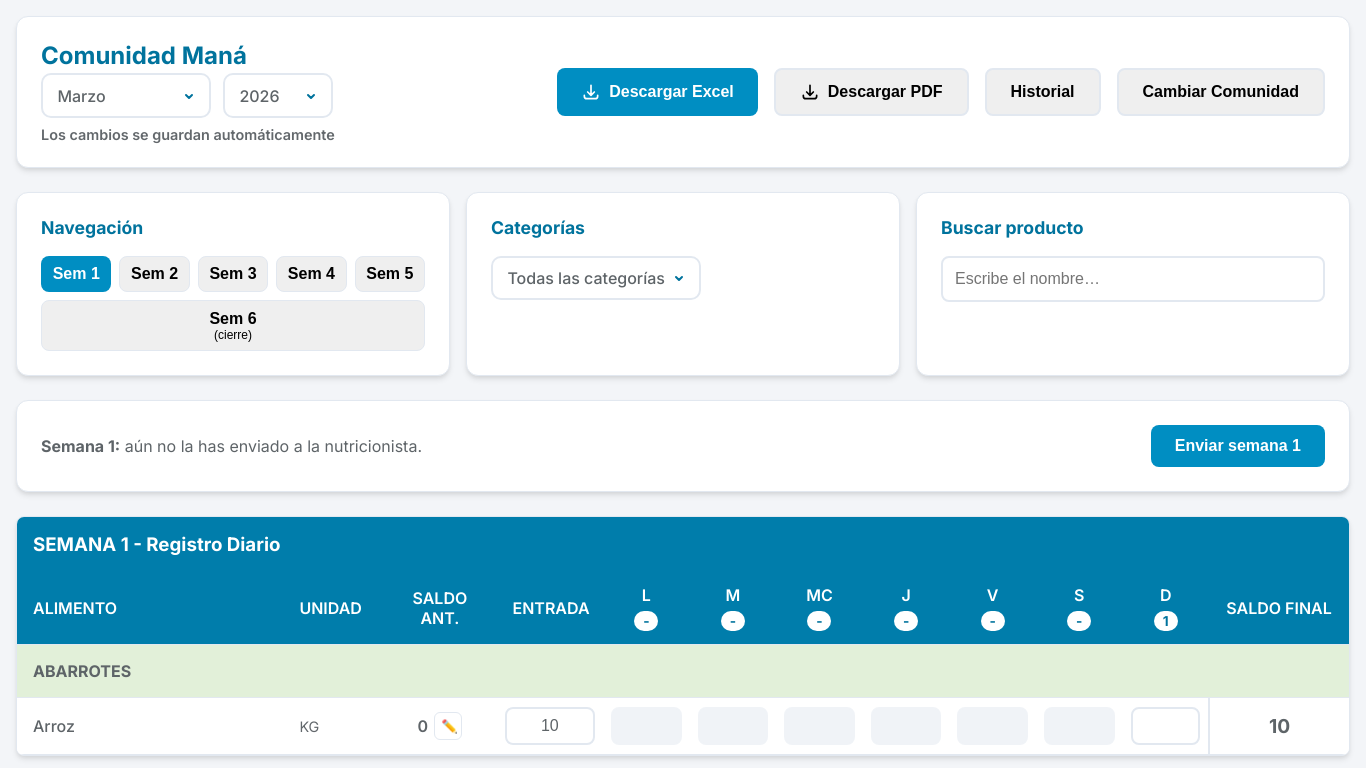
Test case: kardex: semana 6 de cierre › cambiar de semana con los botones lleva a la semana 6 y de vuelta
This screenshot has width=1366, height=768.
Click the button "Sem 6 (cierre)": click(233, 325) [41,300,425,351]
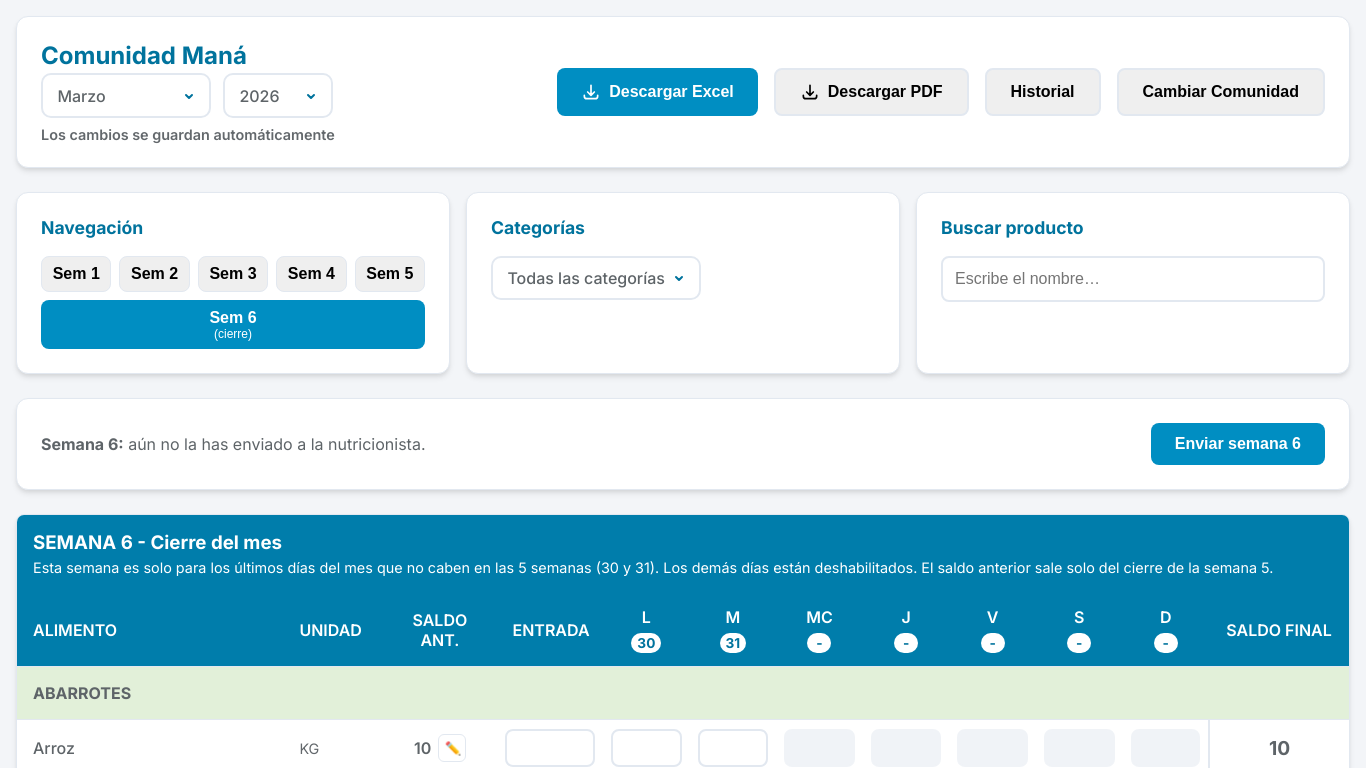
expect the heading "SEMANA 6 - Cierre del mes" is shown: met, box [33,531,282,554]
Click the button "Sem 1": click(76, 274) [41,256,111,292]
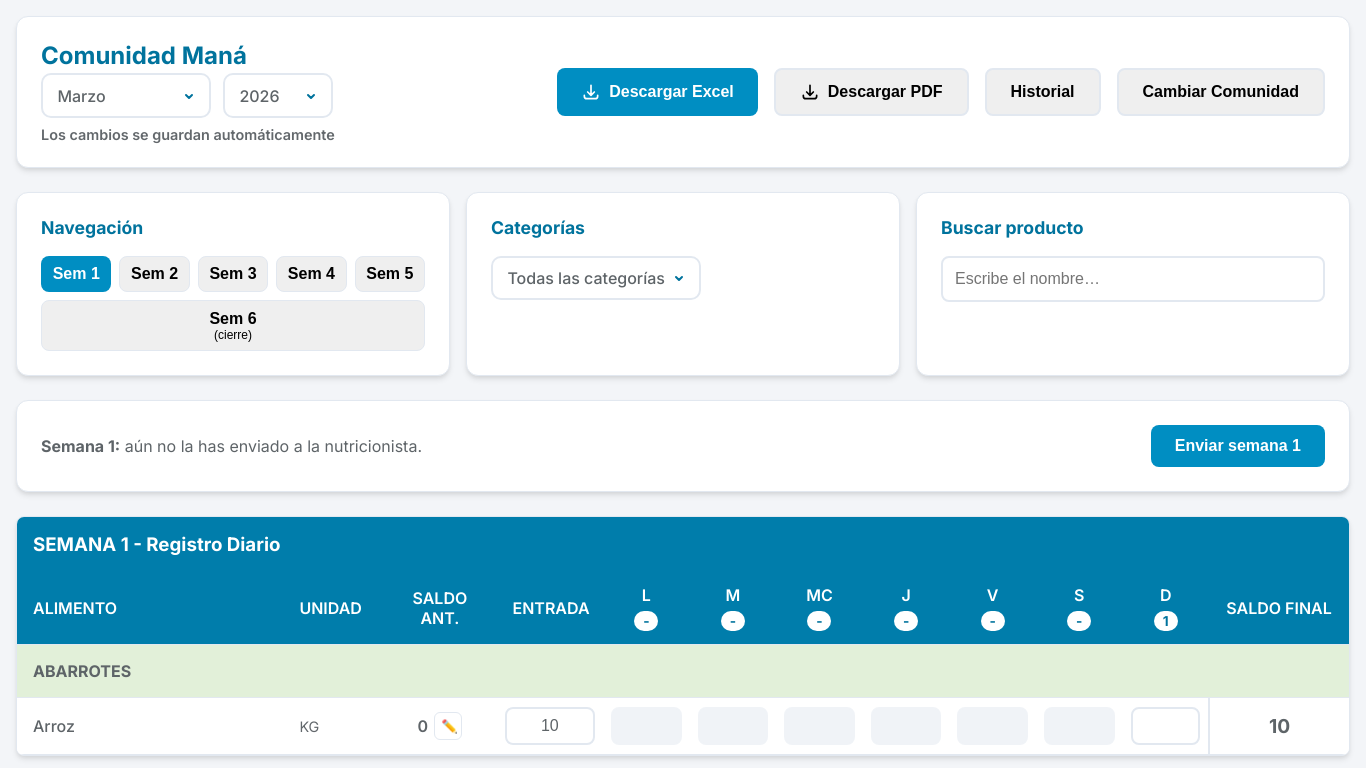
expect the heading "SEMANA 1 - Registro Diario" is shown: met, box [33,533,280,556]
